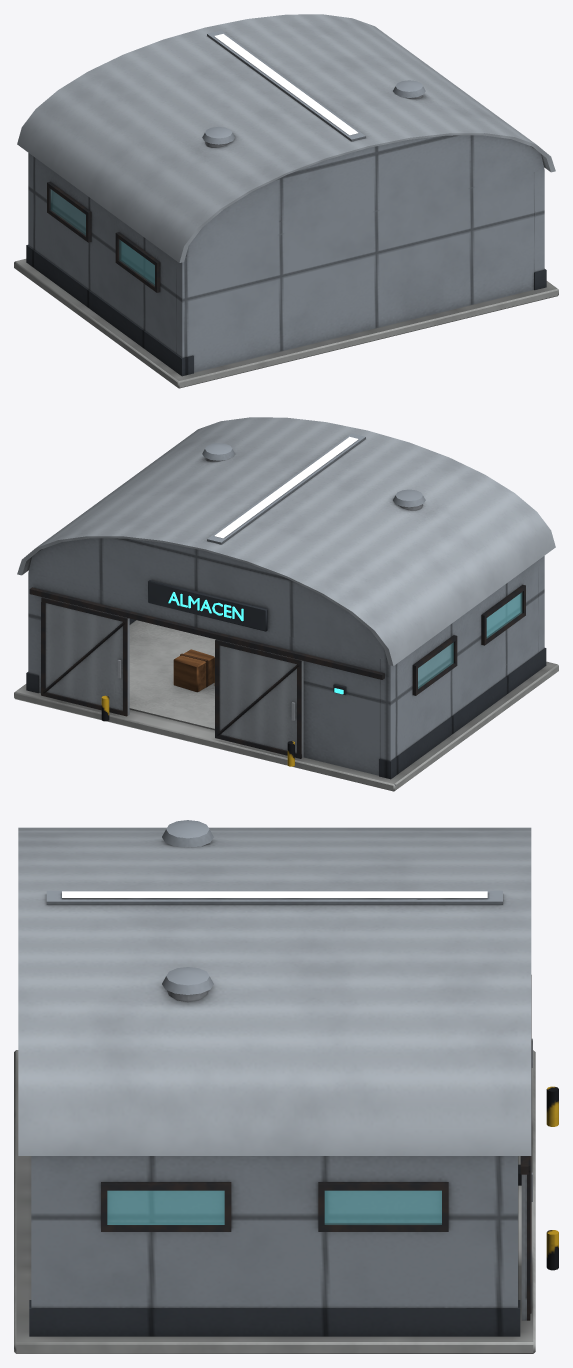
Rendered from almacen_industrial.fbx.
3 renders of one model, top to bottom at view 1: azimuth 30°, elevation 25°; view 2: azimuth 150°, elevation 25°; view 3: azimuth 270°, elevation 25°, orthographic. The views are drawn at different scales.
Parts seen in each view (by area): view 1: almacen_industrial, almacen_industrial_cristal, almacen_industrial_blanco_luz; view 2: almacen_industrial, almacen_industrial_porton_izq, almacen_industrial_porton_der, almacen_industrial_cristal, almacen_industrial_blanco_luz, almacen_industrial_neon; view 3: almacen_industrial, almacen_industrial_cristal, almacen_industrial_blanco_luz, almacen_industrial_porton_izq.
Part boxes in pixels (x1,y1,x2,y2): almacen_industrial: [14, 14, 558, 388]; almacen_industrial_cristal: [50, 189, 154, 285]; almacen_industrial_blanco_luz: [214, 34, 358, 135]; almacen_industrial: [14, 417, 558, 791]; almacen_industrial_porton_izq: [41, 597, 129, 716]; almacen_industrial_porton_der: [215, 639, 303, 758]; almacen_industrial_cristal: [418, 593, 521, 688]; almacen_industrial_blanco_luz: [214, 436, 358, 538]; almacen_industrial_neon: [168, 592, 343, 694]; almacen_industrial: [14, 820, 558, 1353]; almacen_industrial_cristal: [107, 1190, 441, 1224]; almacen_industrial_blanco_luz: [62, 891, 487, 899]; almacen_industrial_porton_izq: [521, 1109, 532, 1320].
Size of the model in its own units: 16 by 7.95 by 12.54.
Materials: 3 (3 with a texture image).
